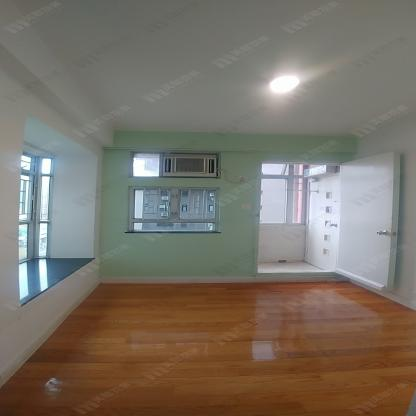AC: (162, 156, 217, 177)
